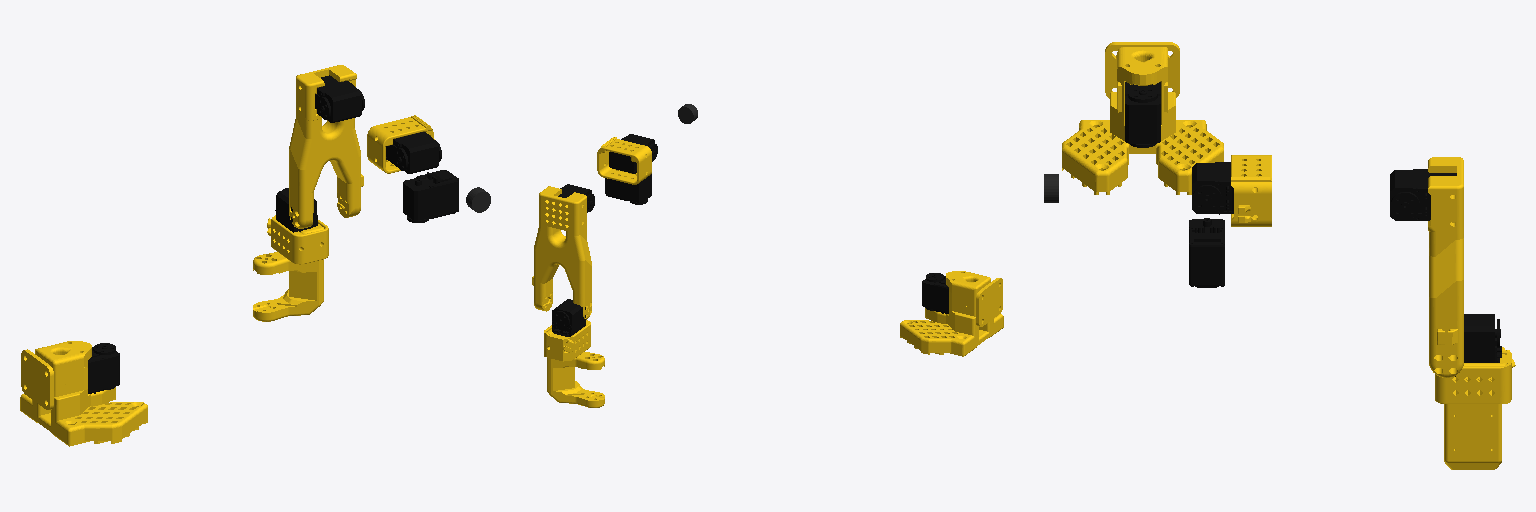
robot.urdf — so101:
<?xml version='1.0' encoding='utf-8'?>
<robot name="so101">
  <!-- Generated by scripts/mjcf_to_urdf.py from robot.xml + soarm_gripper.xml - do not hand-edit. Regenerate instead. See Phase 10 D-02/D-03. -->
  <!-- velocity="10.0" on all 5 arm revolute joints below is a PLACEHOLDER - no calibrated velocity data exists for this arm (Phase 10 Plan 10-03). -->
  <link name="base">
    <visual>
      <origin xyz="-0.300000 -0.225000 0.081000" rpy="-1.570802 3.141593 -1.570796" />
      <geometry>
        <mesh filename="So-101_base_link_visual_vis_1.dae" />
      </geometry>
    </visual>
    <visual>
      <origin xyz="-0.300000 -0.225000 0.081000" rpy="-1.570802 3.141593 -1.570796" />
      <geometry>
        <mesh filename="So-101_base_link_visual_vis_2.dae" />
      </geometry>
    </visual>
    <visual>
      <origin xyz="-0.300000 -0.225000 0.081000" rpy="-1.570802 3.141593 -1.570796" />
      <geometry>
        <mesh filename="So-101_base_link_visual_vis_3.dae" />
      </geometry>
    </visual>
    <visual>
      <origin xyz="-0.300000 -0.225000 0.081000" rpy="-1.570802 3.141593 -1.570796" />
      <geometry>
        <mesh filename="So-101_base_link_visual_vis_4.dae" />
      </geometry>
    </visual>
    <collision>
      <origin xyz="-0.300000 -0.225000 0.081000" rpy="-1.570802 3.141593 -1.570796" />
      <geometry>
        <mesh filename="So-101_robot_base_coll_1.dae" />
      </geometry>
    </collision>
    <collision>
      <origin xyz="-0.300000 -0.225000 0.081000" rpy="-1.570802 3.141593 -1.570796" />
      <geometry>
        <mesh filename="So-101_robot_base_coll_2.dae" />
      </geometry>
    </collision>
    <collision>
      <origin xyz="-0.300000 -0.225000 0.081000" rpy="-1.570802 3.141593 -1.570796" />
      <geometry>
        <mesh filename="So-101_robot_base_coll_3.dae" />
      </geometry>
    </collision>
    <collision>
      <origin xyz="-0.300000 -0.225000 0.081000" rpy="-1.570802 3.141593 -1.570796" />
      <geometry>
        <mesh filename="So-101_robot_base_coll_4.dae" />
      </geometry>
    </collision>
    <inertial>
      <origin xyz="0.0137179 -5.19711e-05 0.0334843" rpy="0 0 0" />
      <mass value="0.147" />
      <inertia ixx="0.000114686" ixy="-4.59787e-07" ixz="4.97151e-06" iyy="0.000136117" iyz="9.75275e-08" izz="0.000130364" />
    </inertial>
  </link>
  <joint name="shoulder_pan" type="revolute">
    <parent link="base" />
    <child link="shoulder" />
    <origin xyz="0.0388353 -8.97657e-09 0.0624" rpy="3.141592654 -7.12334e-16 -3.141592654" />
    <axis xyz="0 0 1" />
    <limit lower="-1.227484" upper="1.227484" effort="2.94" velocity="10.0" />
    <dynamics damping="0.60" friction="0.052" />
  </joint>
  <link name="shoulder">
    <visual>
      <origin xyz="-0.030399 0.000422 -0.041700" rpy="1.570800 1.570800 0.000000" />
      <geometry>
        <mesh filename="So-101_shoulder_link_visual_vis_1.dae" />
      </geometry>
    </visual>
    <visual>
      <origin xyz="-0.030399 0.000422 -0.041700" rpy="1.570800 1.570800 0.000000" />
      <geometry>
        <mesh filename="So-101_shoulder_link_visual_vis_2.dae" />
      </geometry>
    </visual>
    <visual>
      <origin xyz="-0.030399 0.000422 -0.041700" rpy="1.570800 1.570800 0.000000" />
      <geometry>
        <mesh filename="So-101_shoulder_link_visual_vis_3.dae" />
      </geometry>
    </visual>
    <collision>
      <origin xyz="-0.030399 0.000422 -0.041700" rpy="1.570800 1.570800 0.000000" />
      <geometry>
        <mesh filename="So-101_shoulder_link_respondable_coll_1.dae" />
      </geometry>
    </collision>
    <collision>
      <origin xyz="-0.030399 0.000422 -0.041700" rpy="1.570800 1.570800 0.000000" />
      <geometry>
        <mesh filename="So-101_shoulder_link_respondable_coll_2.dae" />
      </geometry>
    </collision>
    <collision>
      <origin xyz="-0.030399 0.000422 -0.041700" rpy="1.570800 1.570800 0.000000" />
      <geometry>
        <mesh filename="So-101_shoulder_link_respondable_coll_3.dae" />
      </geometry>
    </collision>
    <inertial>
      <origin xyz="-0.0307604 -1.66727e-05 -0.0252713" rpy="0 0 0" />
      <mass value="0.100006" />
      <inertia ixx="8.3759e-05" ixy="7.55525e-08" ixz="-1.16342e-06" iyy="8.10403e-05" iyz="1.54663e-07" izz="2.39783e-05" />
    </inertial>
  </link>
  <joint name="shoulder_lift" type="revolute">
    <parent link="shoulder" />
    <child link="upper_arm" />
    <origin xyz="-0.0303992 -0.0182778 -0.0542" rpy="0 -1.570796327 0" />
    <axis xyz="0 0 1" />
    <limit lower="-1.875749" upper="1.875749" effort="2.94" velocity="10.0" />
    <dynamics damping="0.60" friction="0.052" />
  </joint>
  <link name="upper_arm">
    <visual>
      <origin xyz="-0.112570 -0.015500 0.018700" rpy="0.000003 3.141593 1.570793" />
      <geometry>
        <mesh filename="So-101_upper_arm_link_visual_vis_1.dae" />
      </geometry>
    </visual>
    <visual>
      <origin xyz="-0.112570 -0.015500 0.018700" rpy="0.000003 3.141593 1.570793" />
      <geometry>
        <mesh filename="So-101_upper_arm_link_visual_vis_2.dae" />
      </geometry>
    </visual>
    <collision>
      <origin xyz="-0.112570 -0.015500 0.018700" rpy="0.000003 3.141593 1.570793" />
      <geometry>
        <mesh filename="So-101_upper_arm_link_respondable_coll_1.dae" />
      </geometry>
    </collision>
    <collision>
      <origin xyz="-0.112570 -0.015500 0.018700" rpy="0.000003 3.141593 1.570793" />
      <geometry>
        <mesh filename="So-101_upper_arm_link_respondable_coll_2.dae" />
      </geometry>
    </collision>
    <inertial>
      <origin xyz="-0.0898471 -0.00838224 0.0184089" rpy="0 0 0" />
      <mass value="0.103" />
      <inertia ixx="4.08002e-05" ixy="-1.97819e-05" ixz="-4.03016e-08" iyy="0.000147318" iyz="8.97326e-09" izz="0.000142487" />
    </inertial>
  </link>
  <joint name="elbow_flex" type="revolute">
    <parent link="upper_arm" />
    <child link="lower_arm" />
    <origin xyz="-0.11257 -0.028 1.73763e-16" rpy="-1.211506222e-16 4.816275483e-17 1.570796946" />
    <axis xyz="0 0 1" />
    <limit lower="-1.696997" upper="1.696997" effort="2.94" velocity="10.0" />
    <dynamics damping="0.60" friction="0.052" />
  </joint>
  <link name="lower_arm">
    <visual>
      <origin xyz="-0.064850 -0.032000 0.018200" rpy="-0.000003 3.141593 -3.141593" />
      <geometry>
        <mesh filename="So-101_lower_arm_link_visual_vis_1.dae" />
      </geometry>
    </visual>
    <visual>
      <origin xyz="-0.064850 -0.032000 0.018200" rpy="-0.000003 3.141593 -3.141593" />
      <geometry>
        <mesh filename="So-101_lower_arm_link_visual_vis_2.dae" />
      </geometry>
    </visual>
    <visual>
      <origin xyz="-0.064850 -0.032000 0.018200" rpy="-0.000003 3.141593 -3.141593" />
      <geometry>
        <mesh filename="So-101_lower_arm_link_visual_vis_3.dae" />
      </geometry>
    </visual>
    <collision>
      <origin xyz="-0.064850 -0.032000 0.018200" rpy="-0.000003 3.141593 -3.141593" />
      <geometry>
        <mesh filename="So-101_lower_arm_link_respondable_coll_1.dae" />
      </geometry>
    </collision>
    <collision>
      <origin xyz="-0.064850 -0.032000 0.018200" rpy="-0.000003 3.141593 -3.141593" />
      <geometry>
        <mesh filename="So-101_lower_arm_link_respondable_coll_2.dae" />
      </geometry>
    </collision>
    <collision>
      <origin xyz="-0.064850 -0.032000 0.018200" rpy="-0.000003 3.141593 -3.141593" />
      <geometry>
        <mesh filename="So-101_lower_arm_link_respondable_coll_3.dae" />
      </geometry>
    </collision>
    <inertial>
      <origin xyz="-0.0980701 0.00324376 0.0182831" rpy="0 0 0" />
      <mass value="0.104" />
      <inertia ixx="2.87438e-05" ixy="7.41152e-06" ixz="1.26409e-06" iyy="0.000159844" iyz="-4.90188e-08" izz="0.00014529" />
    </inertial>
  </link>
  <joint name="wrist_flex" type="revolute">
    <parent link="lower_arm" />
    <child link="wrist" />
    <origin xyz="-0.1349 0.0052 3.62355e-17" rpy="2.418355437e-15 2.933207115e-16 -1.570796946" />
    <axis xyz="0 0 1" />
    <limit lower="-1.780619" upper="1.780619" effort="2.94" velocity="10.0" />
    <dynamics damping="0.60" friction="0.052" />
  </joint>
  <link name="wrist">
    <visual>
      <origin xyz="0.042400 -0.000034 0.030600" rpy="0.526021 1.570804 0.525218" />
      <geometry>
        <mesh filename="So-101_wrist_link_visual_vis_1.dae" />
      </geometry>
    </visual>
    <visual>
      <origin xyz="0.042400 -0.000034 0.030600" rpy="0.526021 1.570804 0.525218" />
      <geometry>
        <mesh filename="So-101_wrist_link_visual_vis_2.dae" />
      </geometry>
    </visual>
    <collision>
      <origin xyz="0.042400 -0.000034 0.030600" rpy="0.526021 1.570804 0.525218" />
      <geometry>
        <mesh filename="So-101_wrist_link_respondable_coll_1.dae" />
      </geometry>
    </collision>
    <collision>
      <origin xyz="0.042400 -0.000034 0.030600" rpy="0.526021 1.570804 0.525218" />
      <geometry>
        <mesh filename="So-101_wrist_link_respondable_coll_2.dae" />
      </geometry>
    </collision>
    <inertial>
      <origin xyz="-0.000103312 -0.0386143 0.0281156" rpy="0 0 0" />
      <mass value="0.079" />
      <inertia ixx="3.68263e-05" ixy="1.7893e-08" ixz="-5.28128e-08" iyy="2.5391e-05" iyz="3.6412e-06" izz="2.1e-05" />
    </inertial>
  </link>
  <joint name="wrist_roll" type="revolute">
    <parent link="wrist" />
    <child link="right_hand" />
    <origin xyz="5.55112e-17 -0.0611 0.0181" rpy="1.570795369 0.04867946825 3.141592654" />
    <axis xyz="0 0 1" />
    <limit lower="-2.7438472969992493" upper="2.841206309382605" effort="2.94" velocity="10.0" />
    <dynamics damping="0.60" friction="0.052" />
  </joint>
  <link name="right_hand">
    <inertial>
      <origin xyz="0.000213627 0.000245138 -0.025187" rpy="0 0 0" />
      <mass value="0.087" />
      <inertia ixx="2.75087e-05" ixy="-3.35241e-07" ixz="-5.7352e-06" iyy="4.33657e-05" iyz="-5.17847e-08" izz="3.45059e-05" />
    </inertial>
    <visual>
      <origin xyz="0.0114191235926 0.000634485894223 -0.0196791159805" rpy="-3.141582217 -1.161431329e-05 -3.141588966" />
      <geometry>
        <mesh filename="So-101_gripper_servo.stl" />
      </geometry>
      <material name="sts3215_03a_v1_material">
        <color rgba="0.1 0.1 0.1 1" />
      </material>
    </visual>
    <collision>
      <origin xyz="0.0114191235926 0.000634485894223 -0.0196791159805" rpy="-3.141582217 -1.161431329e-05 -3.141588966" />
      <geometry>
        <mesh filename="So-101_gripper_servo.stl" />
      </geometry>
    </collision>
  </link>
  <joint name="right_hand_to_gripper" type="fixed">
    <parent link="right_hand" />
    <child link="right_gripper" />
    <origin xyz="0 0 0" rpy="0 0 0" />
  </joint>
  <link name="right_gripper">
    <inertial>
      <origin xyz="0.0044 0.0003 -0.03" rpy="0 0 0" />
      <mass value="0.07" />
      <inertia ixx="6e-05" ixy="0" ixz="0" iyy="6e-05" iyz="0" izz="4e-05" />
    </inertial>
  </link>
  <joint name="gripper_mechanism_mount" type="fixed">
    <parent link="right_gripper" />
    <child link="parallel_gripper_mechanism" />
    <origin xyz="0.004443322423 0.000294707935691 0.000326451918819" rpy="-3.138416666 1.569999995 -3.089739806" />
  </joint>
  <link name="parallel_gripper_mechanism">
    <visual>
      <origin xyz="0.03699999989 -0.06400000006 -0.02975000013" rpy="1.570782266 -2.583139258e-11 1.570792653" />
      <geometry>
        <mesh filename="So-101_gripper_main_frame_visual.stl" scale="0.001 0.001 0.001" />
      </geometry>
      <material name="soarm_frame_material">
        <color rgba="0.1 0.1 0.1 1" />
      </material>
    </visual>
    <visual>
      <origin xyz="0.045 0 -0.005" rpy="3.141592654 -1.570796327 3.141592654" />
      <geometry>
        <cylinder radius="0.01" length="0.01" />
      </geometry>
      <material name="soarm_gear_material">
        <color rgba="0.2 0.2 0.2 1" />
      </material>
    </visual>
  </link>
  <joint name="gripper_left" type="prismatic">
    <parent link="parallel_gripper_mechanism" />
    <child link="gripper_left_jaw" />
    <origin xyz="0 0 0" rpy="0 0 0" />
    <axis xyz="0 -1 0" />
    <limit lower="0" upper="0.036" effort="60" velocity="0.5" />
    <dynamics damping="50" friction="0.5" />
  </joint>
  <link name="gripper_left_jaw">
    <visual>
      <origin xyz="-0.12741 0.006879999936 0.14606" rpy="3.14159 2.745340007e-10 -1.570792654" />
      <geometry>
        <mesh filename="So-101_gripper_clamp_left_visual.stl" scale="0.001 0.001 0.001" />
      </geometry>
      <material name="soarm_jaw_material">
        <color rgba="1 0.82 0.12 1" />
      </material>
    </visual>
    <inertial>
      <origin xyz="0.077 -0.012 -0.006" rpy="0 0 0" />
      <mass value="0.05" />
      <inertia ixx="4e-05" ixy="0" ixz="0" iyy="4e-05" iyz="0" izz="1e-05" />
    </inertial>
    <collision>
      <origin xyz="0.077 -0.012 -0.006" rpy="0 0 0" />
      <geometry>
        <box size="0.044 0.018 0.04" />
      </geometry>
    </collision>
  </link>
  <joint name="gripper_right" type="prismatic">
    <parent link="parallel_gripper_mechanism" />
    <child link="gripper_right_jaw" />
    <origin xyz="0 0 0" rpy="0 0 0" />
    <axis xyz="0 1 0" />
    <limit lower="0" upper="0.036" effort="60" velocity="0.5" />
    <dynamics damping="50" friction="0.5" />
    <mimic joint="gripper_left" multiplier="1" offset="0" />
  </joint>
  <link name="gripper_right_jaw">
    <visual>
      <origin xyz="-0.12742 0.008099999943 0.14571" rpy="3.14159 -9.565827735e-10 -1.570792653" />
      <geometry>
        <mesh filename="So-101_gripper_clamp_right_visual.stl" scale="0.001 0.001 0.001" />
      </geometry>
      <material name="soarm_jaw_material">
        <color rgba="1 0.82 0.12 1" />
      </material>
    </visual>
    <inertial>
      <origin xyz="0.077 0.012 -0.006" rpy="0 0 0" />
      <mass value="0.05" />
      <inertia ixx="4e-05" ixy="0" ixz="0" iyy="4e-05" iyz="0" izz="1e-05" />
    </inertial>
    <collision>
      <origin xyz="0.077 0.012 -0.006" rpy="0 0 0" />
      <geometry>
        <box size="0.044 0.018 0.04" />
      </geometry>
    </collision>
  </link>
  <joint name="gripper_to_eef" type="fixed">
    <parent link="right_gripper" />
    <child link="eef" />
    <origin xyz="-0.00161080382177 -0.000000415863769 -0.0766687457065" rpy="0 0 0" />
  </joint>
  <link name="eef" />
</robot>

--- Render facts (derived) ---
The picture shows the robot from 3 angles, left to right: view 1: azimuth 30°, elevation 25°; view 2: azimuth 150°, elevation 25°; view 3: azimuth 270°, elevation 25°; orthographic projection.
Model so101 with 11 links and 10 joints (5 revolute, 2 prismatic, 3 fixed), rooted at base, posed every joint at zero.
Links seen in each view (by area): view 1: base, upper_arm, shoulder, lower_arm, wrist; view 2: base, upper_arm, shoulder, lower_arm, wrist; view 3: base, upper_arm, shoulder, lower_arm, wrist.
Link boxes in pixels (left/top/right/bottom): base: left=20, top=341, right=147, bottom=446; upper_arm: left=289, top=65, right=364, bottom=228; shoulder: left=253, top=188, right=328, bottom=321; lower_arm: left=367, top=115, right=441, bottom=173; wrist: left=403, top=170, right=458, bottom=222; base: left=900, top=271, right=1003, bottom=356; upper_arm: left=532, top=184, right=594, bottom=319; shoulder: left=544, top=299, right=604, bottom=407; lower_arm: left=597, top=134, right=657, bottom=184; wrist: left=605, top=174, right=651, bottom=204; base: left=1062, top=42, right=1223, bottom=194; upper_arm: left=1390, top=157, right=1463, bottom=377; shoulder: left=1435, top=314, right=1515, bottom=469; lower_arm: left=1192, top=155, right=1271, bottom=226; wrist: left=1189, top=218, right=1224, bottom=287.
Size in the robot's own frame: 0.4477 by 0.3207 by 0.2349 metres.
11 mesh visuals loaded from 18 distinct referenced files (11 Collada DAE); not drawn: 7 (reference not matched to a file when rendering).
